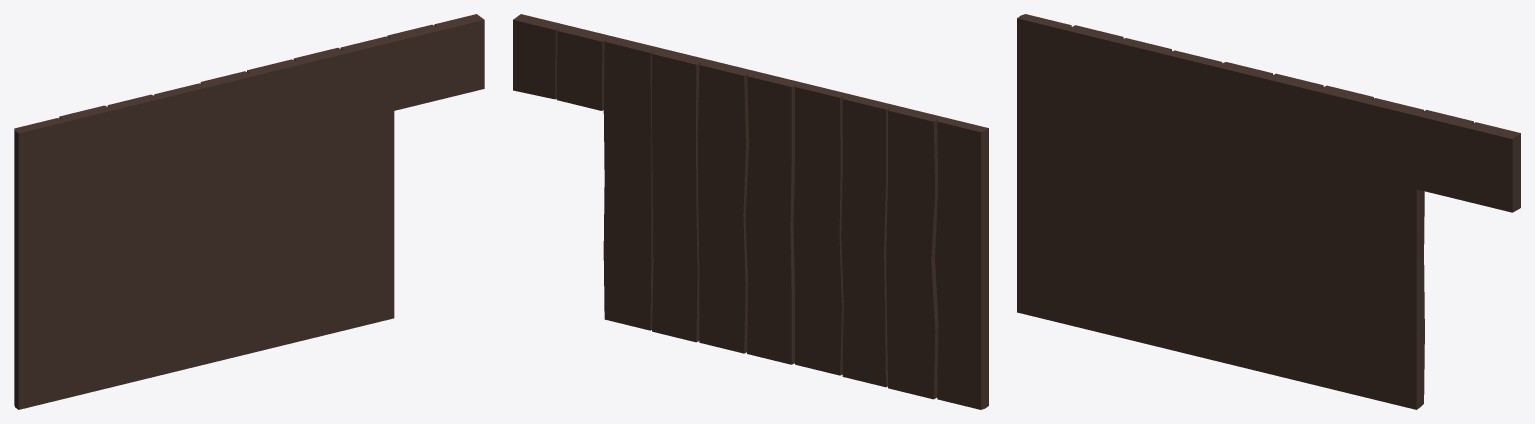
File: DoorWallL.fbx
3 views of the same model, side by side, from view 1: azimuth 30°, elevation 25°; view 2: azimuth 150°, elevation 25°; view 3: azimuth 330°, elevation 25° (orthographic). The views are drawn at different scales.
Parts seen in each view (by area): view 1: DoorWallL; view 2: DoorWallL; view 3: DoorWallL.
Part boxes in pixels (x1=…): DoorWallL: x1=14, y1=14, x2=484, y2=409; DoorWallL: x1=513, y1=14, x2=988, y2=409; DoorWallL: x1=1017, y1=14, x2=1520, y2=409.
Bounding box in the file's own units: 9.93 × 5.63 × 0.2996.
